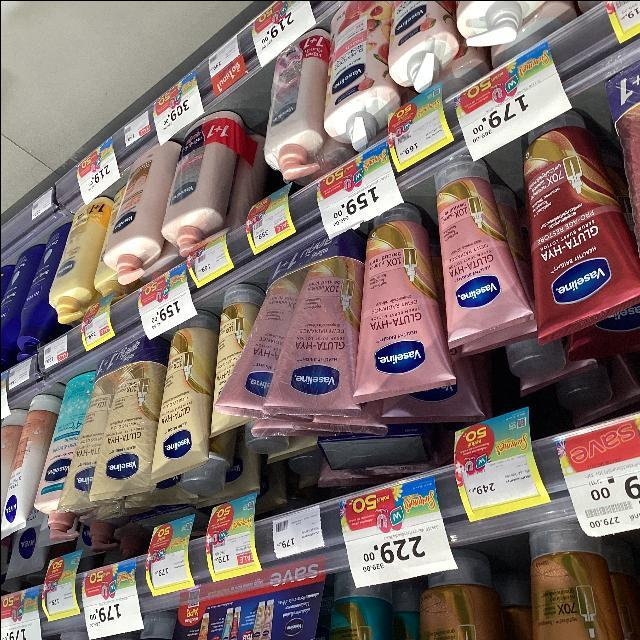Squeeze Tube: (218, 185, 606, 489)
